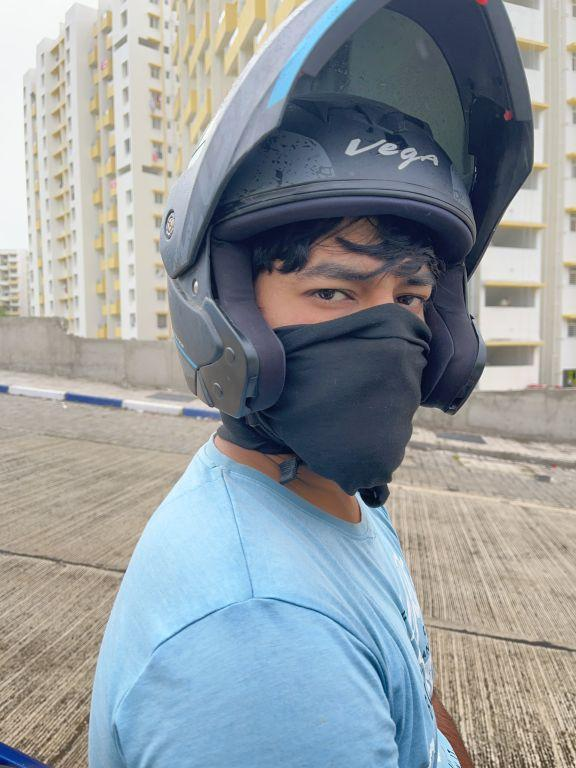helmet: (147, 0, 548, 513)
